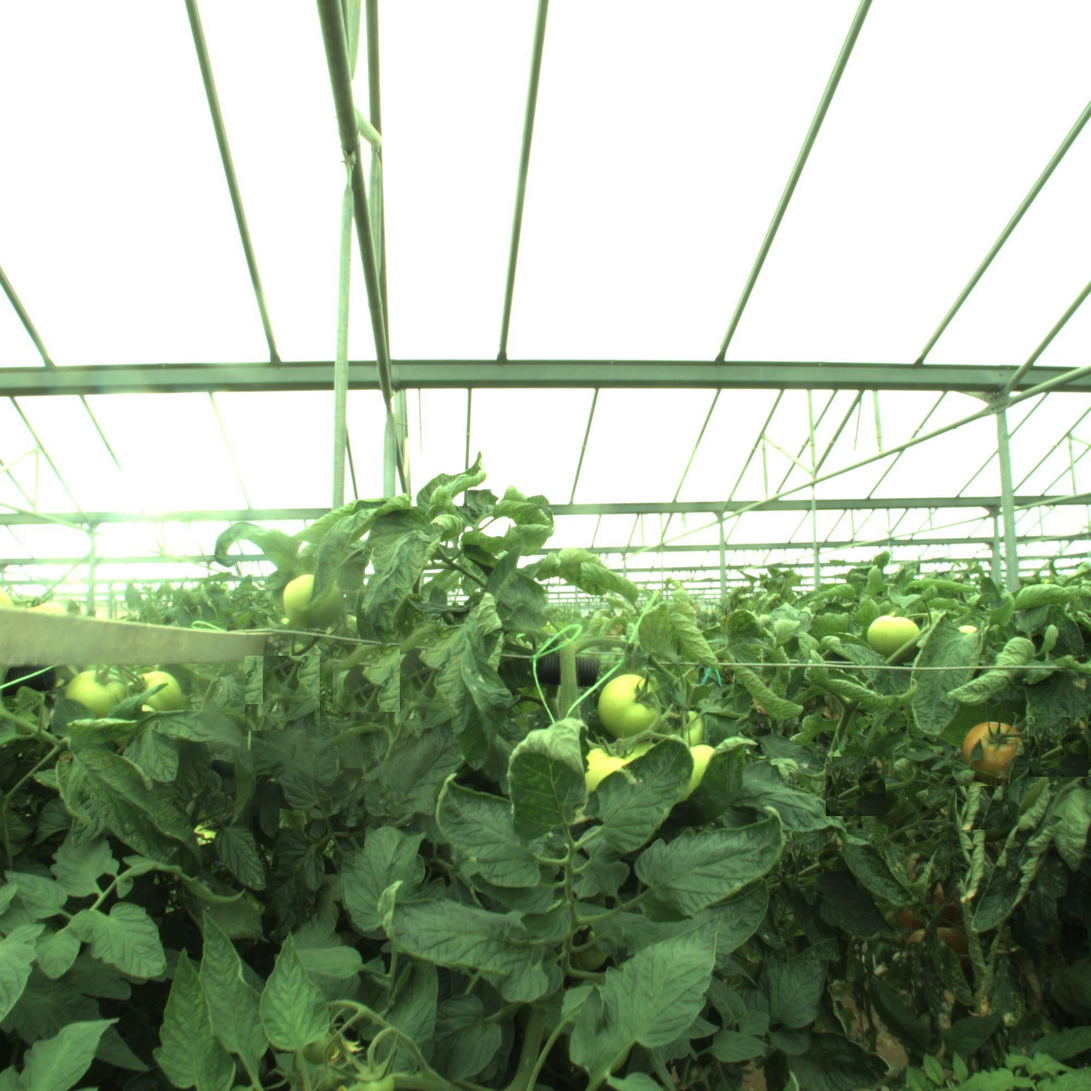semi-ripe: (965, 721, 1020, 776)
unripe: (597, 673, 661, 737), (282, 570, 346, 634), (69, 663, 124, 718), (129, 668, 183, 723), (868, 610, 913, 655)
